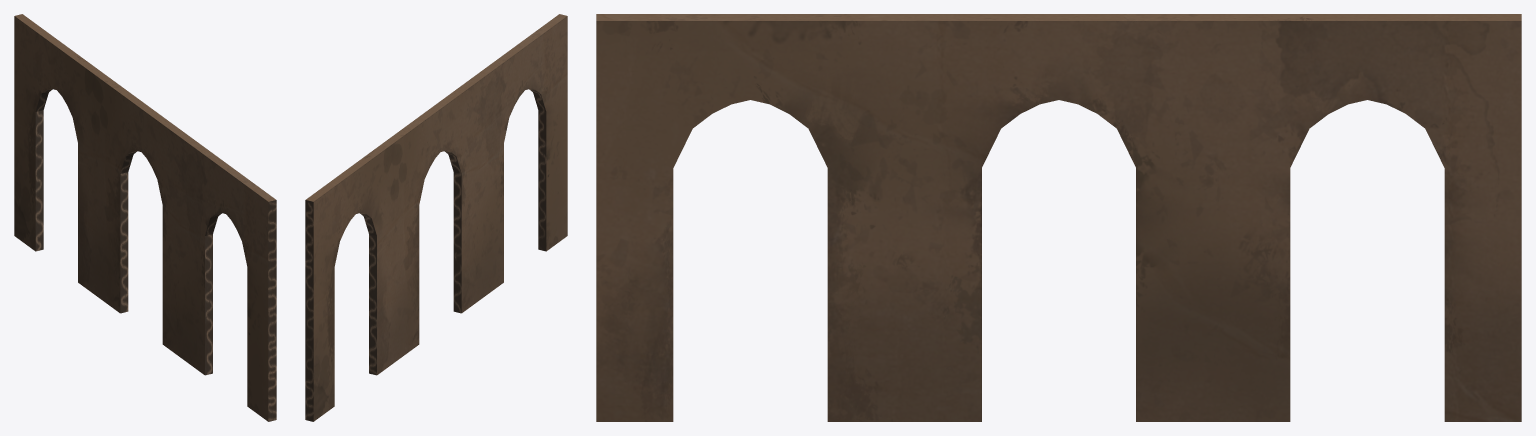
The model's file is colosseumwall.fbx.
The picture shows the model from 3 angles, left to right: view 1: azimuth 30°, elevation 25°; view 2: azimuth 150°, elevation 25°; view 3: azimuth 270°, elevation 25°; orthographic projection. The views are drawn at different scales.
Visible parts, largest first — view 1: pCube1; view 2: pCube1; view 3: pCube1.
Part boxes in pixels (x1,y1,x2,y2): pCube1: (14,14,276,421); pCube1: (305,14,567,421); pCube1: (596,14,1521,421).
Size of the model in its own units: 0.4166 by 10.9 by 22.8.
Materials: 1 (1 with a texture image).
